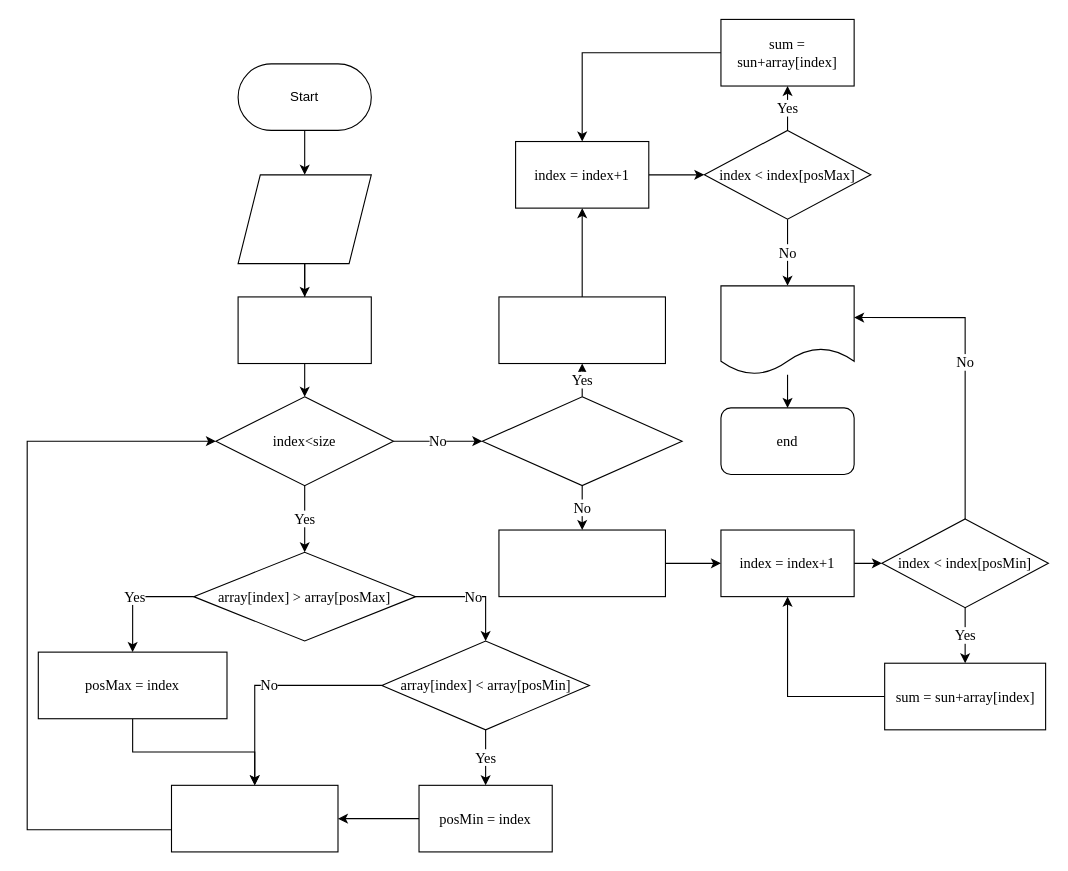
This 1068x871 diagram has some shape labels left out. Each missing label, with the centre of its shape:
"array size" goes at point 304,219.
"index = 0 posMax = 0 posMin = array[0]" goes at point 304,330.
"index = index + 1" goes at point 254,818.
"index[posMax]>index[posMin]" goes at point 581,441.
"print sum" goes at point 787,330.
"sum = array[posMax+1] index=index[posMax+1]" goes at point 581,563.
"sum = array[posMin+1] index=index[posMin+1]" goes at point 581,330.
